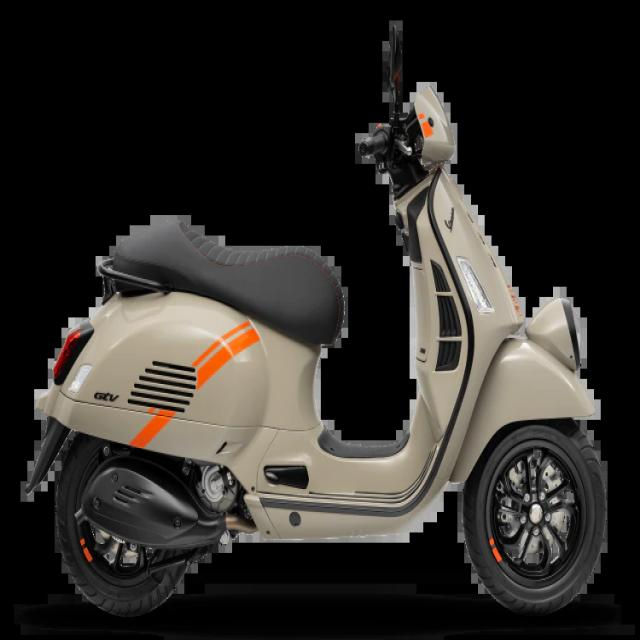Bike: (21, 20, 608, 618)
